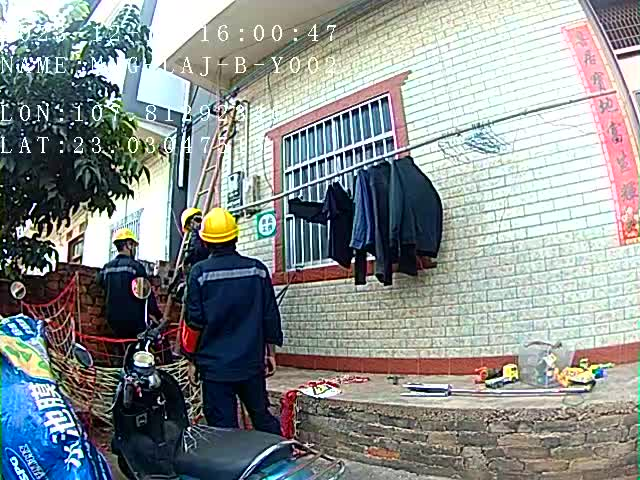badge: (179, 319, 200, 354)
downsuit: (203, 381, 279, 431)
halt: (200, 208, 241, 249), (113, 229, 140, 258)
hand: (186, 365, 200, 387), (265, 354, 277, 377)
inear: (124, 237, 137, 255)
person: (186, 207, 286, 431), (85, 222, 167, 348)
upsuit: (179, 252, 283, 365), (92, 253, 163, 321)
worksign: (255, 208, 277, 241)
